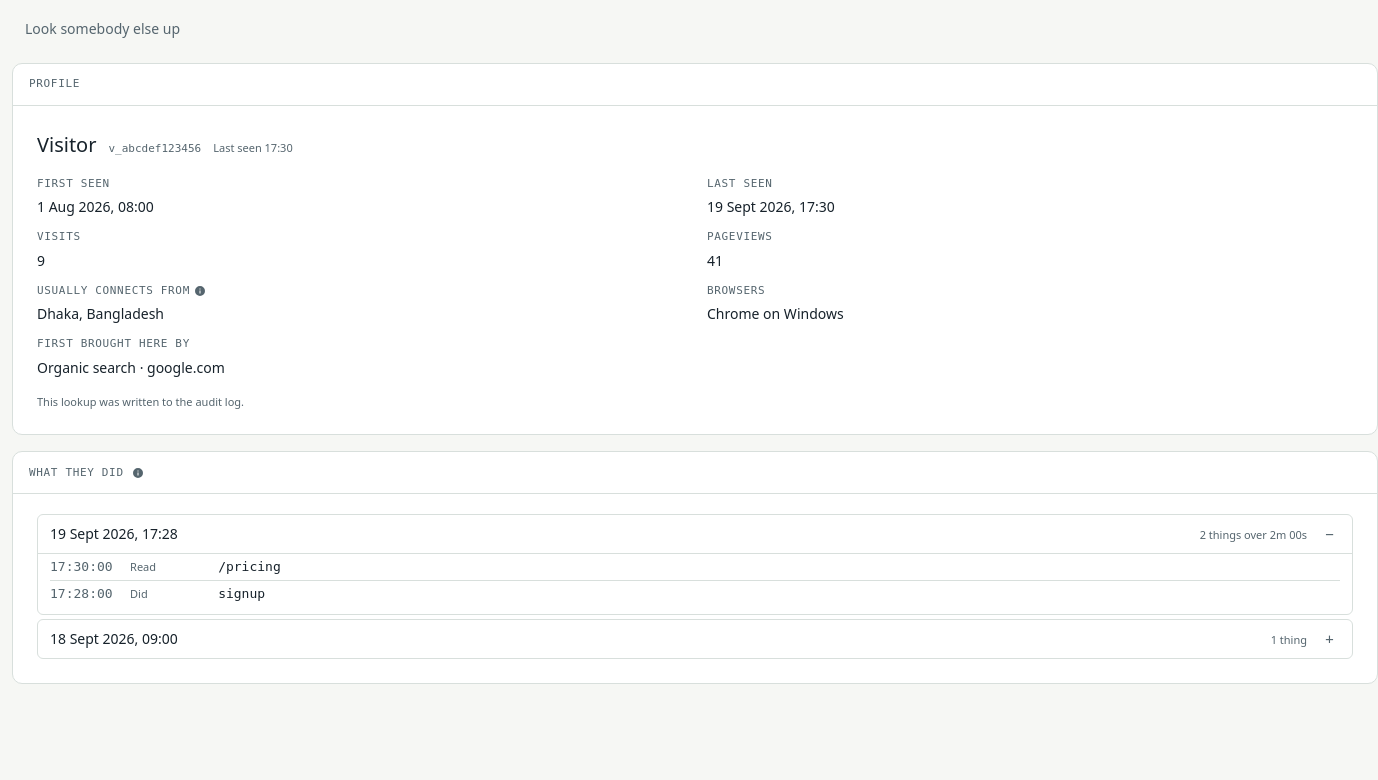
Scenario: People, one profile › groups the timeline into the stays it actually was
This screenshot has width=1378, height=780.
Expected: the button named "what happened" shows "2 things", [38,515,1352,553]
Expected: the text "/pricing" is shown, [218,559,281,574]
Click the button named "what happened" at (114, 639), box [38,620,1352,658]
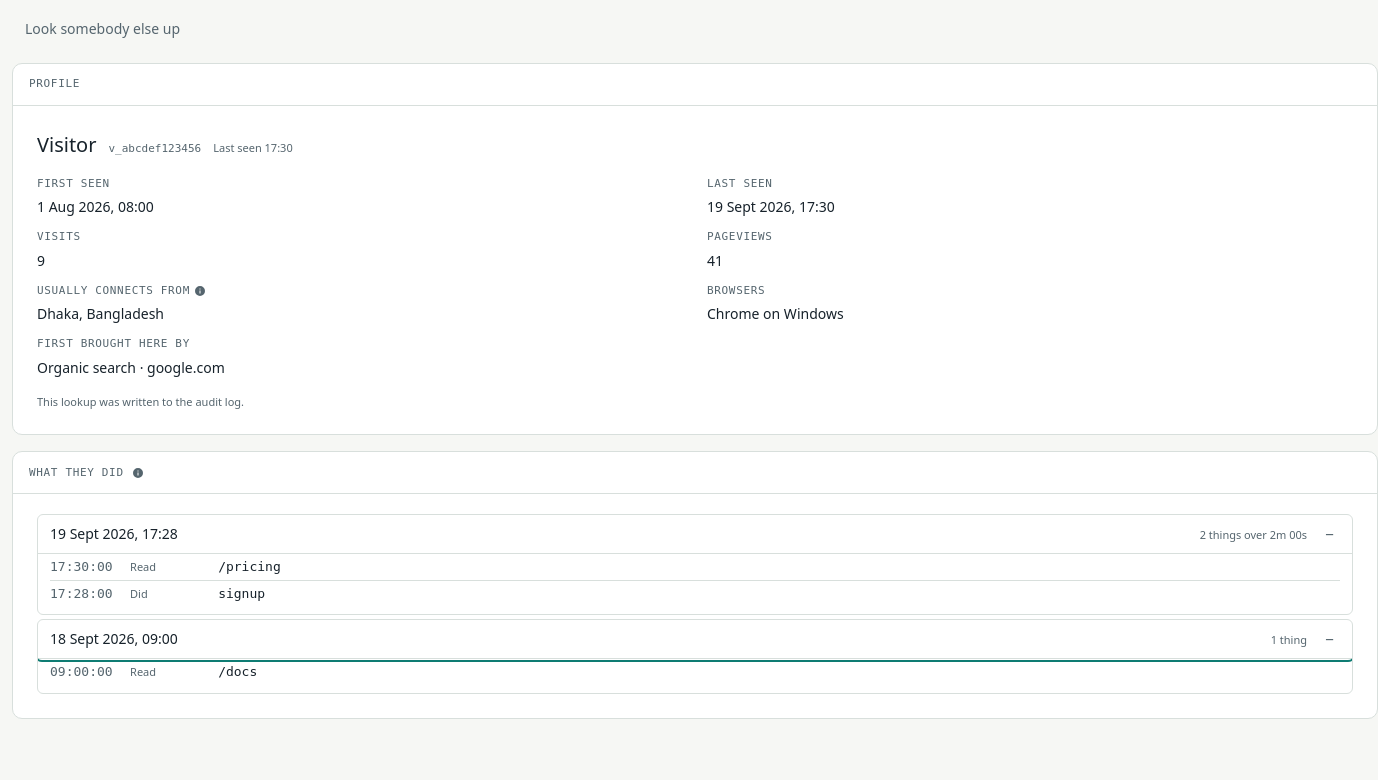
Expected: the text "/docs" is shown, [218,664,257,679]
